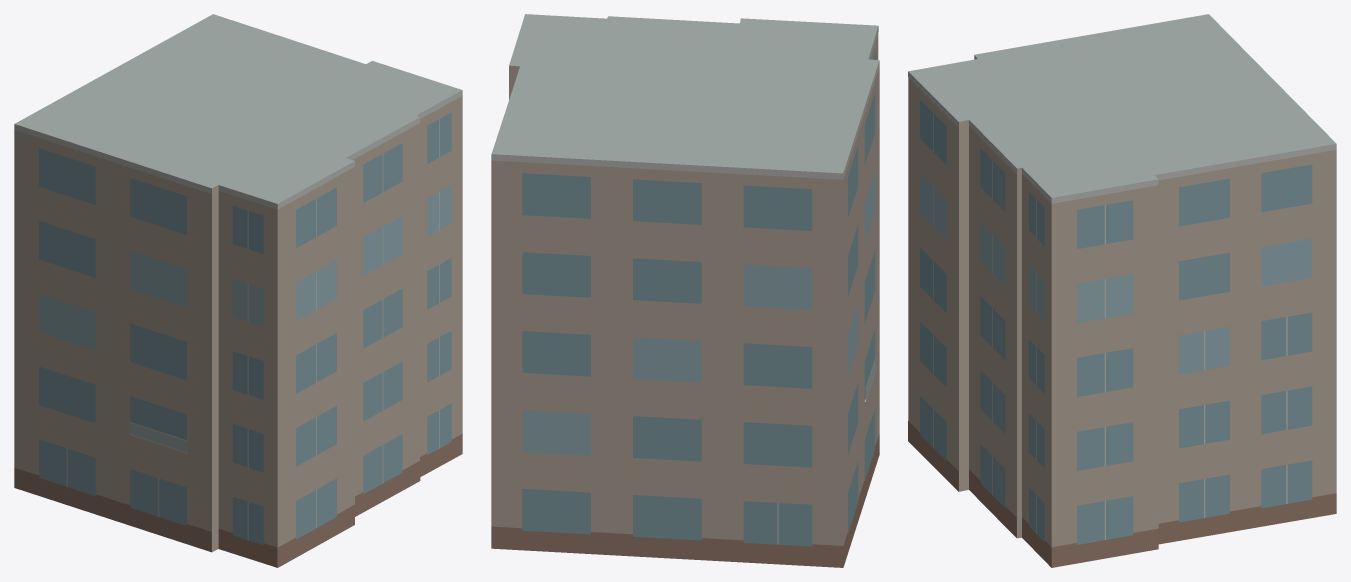
File: survey-upis-32872156.glb
The picture shows the model from 3 angles, left to right: view 1: azimuth 30°, elevation 25°; view 2: azimuth 150°, elevation 25°; view 3: azimuth 270°, elevation 25°; orthographic projection. The views are drawn at different scales.
Visible parts, largest first — view 1: survey-upis-32872156.tmp; view 2: survey-upis-32872156.tmp; view 3: survey-upis-32872156.tmp.
Boxes of the visible parts, x1,y1,x2,y2 form: survey-upis-32872156.tmp: (14, 14, 462, 567); survey-upis-32872156.tmp: (491, 14, 879, 567); survey-upis-32872156.tmp: (908, 14, 1336, 567).
Bounding box in the file's own units: 16.27 × 15.25 × 16.02.
